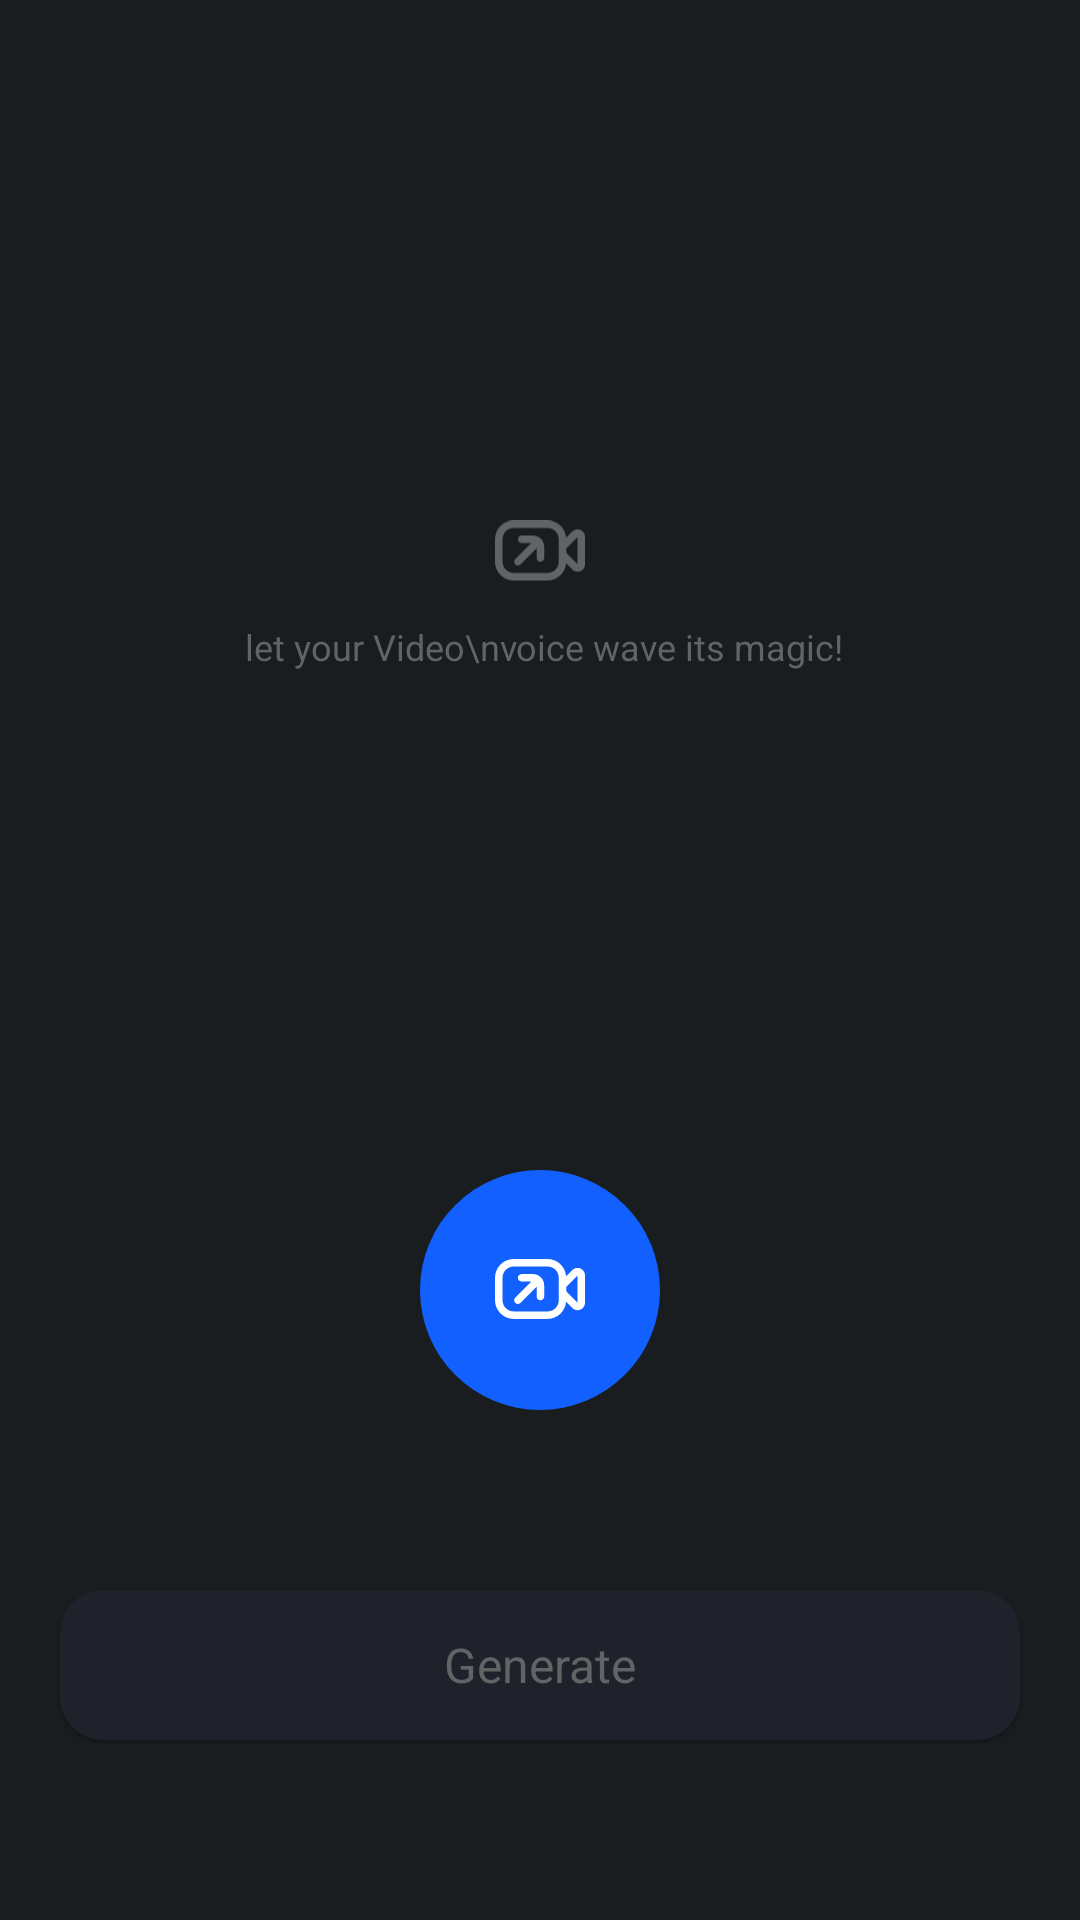

Icon bounding boxes for this 1080 x 1920 phone screenshot, format [x1,y1,x2,y2]:
camera: [495,520,585,581], [420,1170,660,1410]
